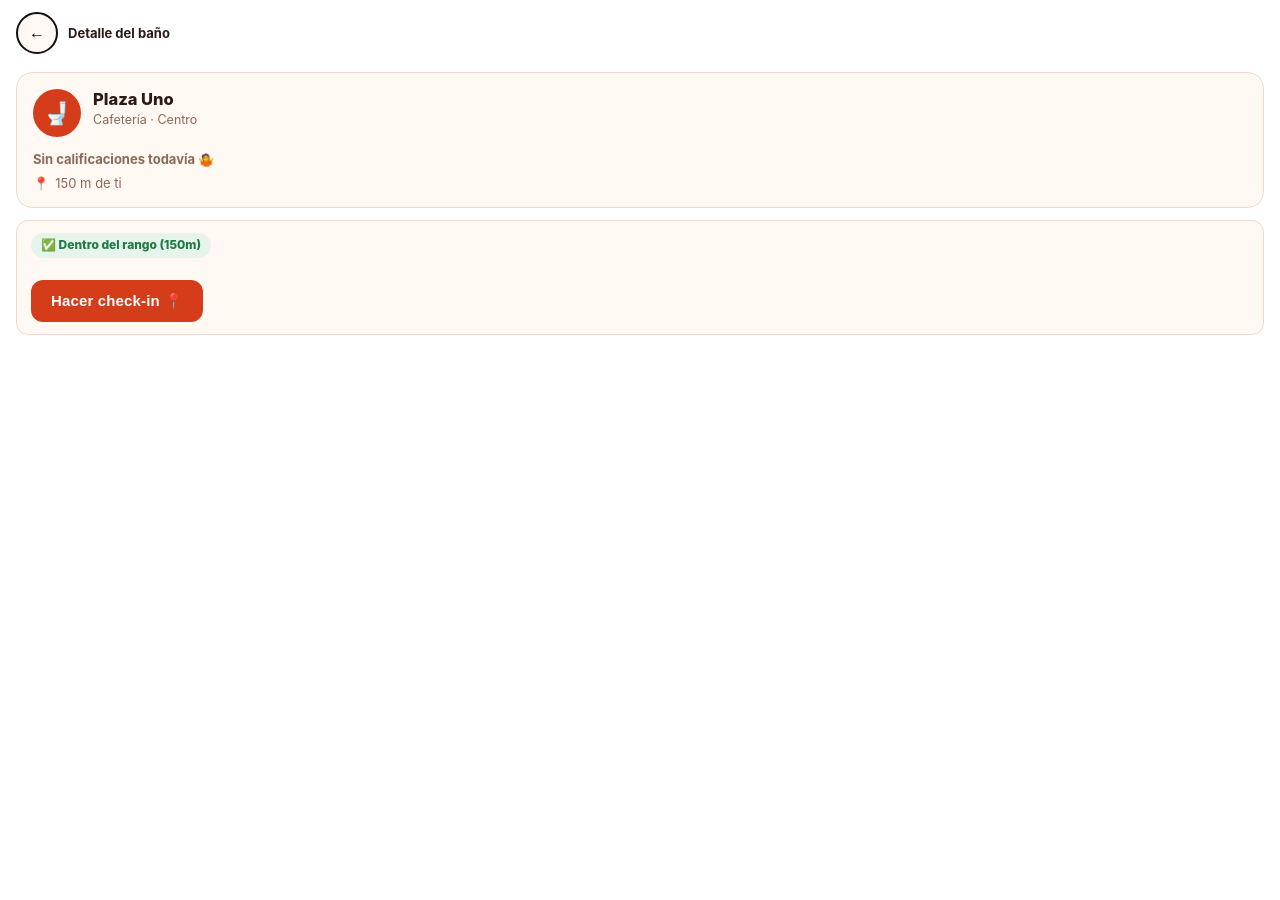
Scenario: Mapa › tocar un pin abre el Detalle con los datos del baño; Volver lo cierra y vuelve al Mapa
Expected: the text "Cafetería · Centro" is shown, [93,112,197,127]
Click the button named "volver" at (37, 33), box [16,12,58,54]
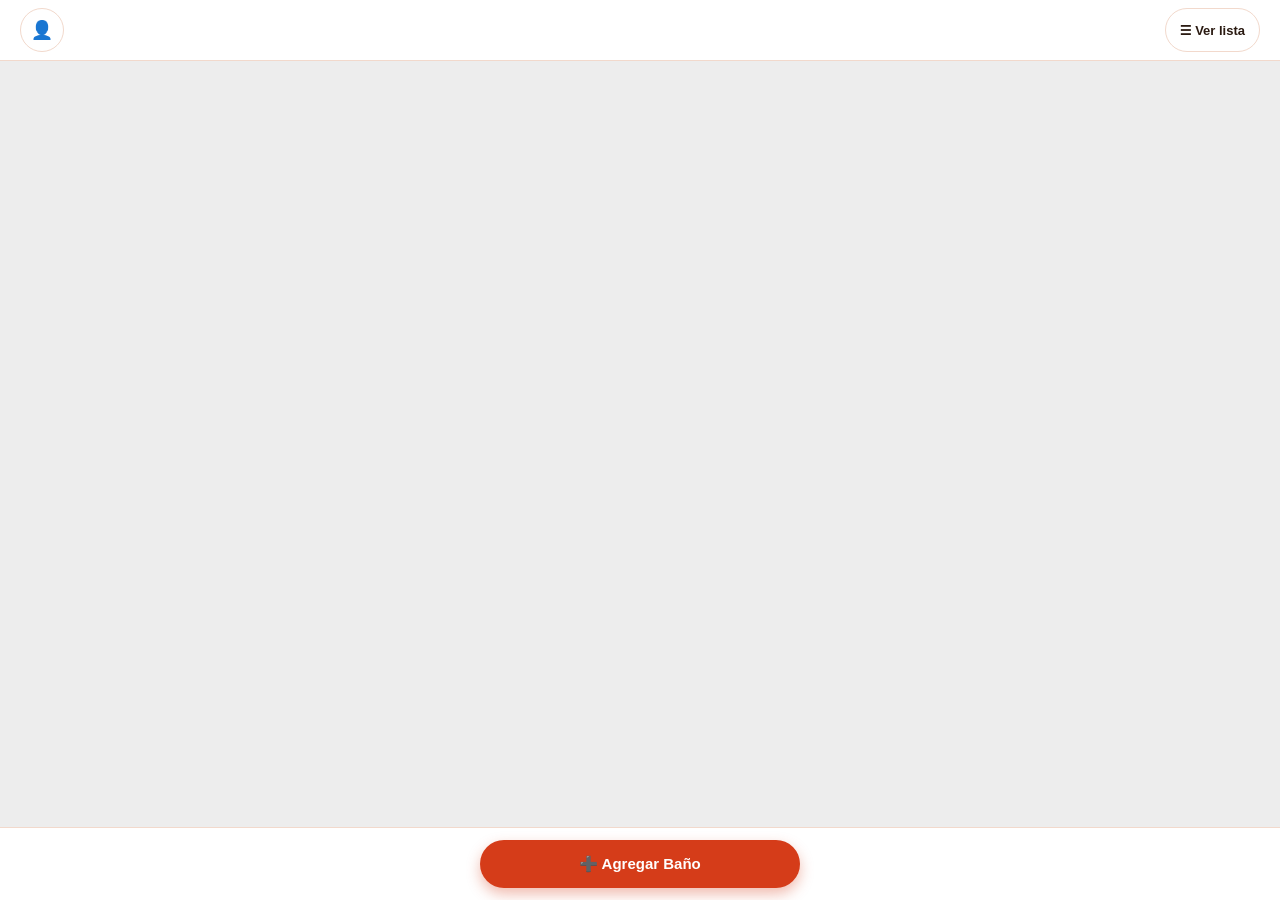
Expected: the dialog is gone
